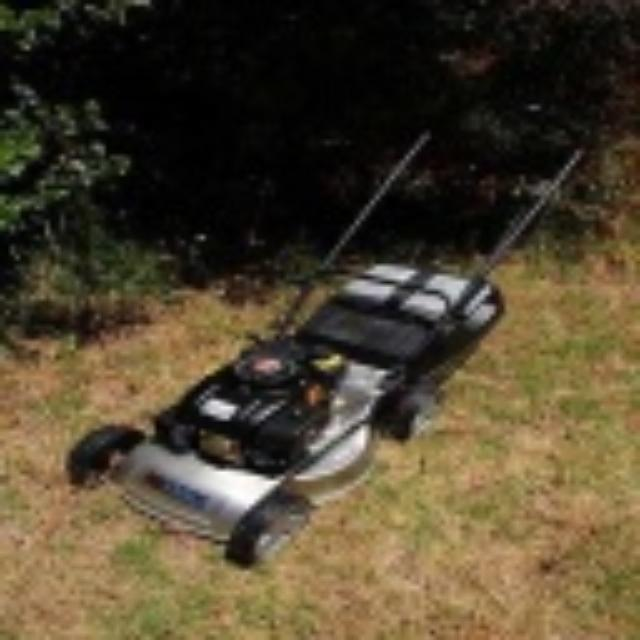Rotary-Mower: (60, 130, 590, 570)
